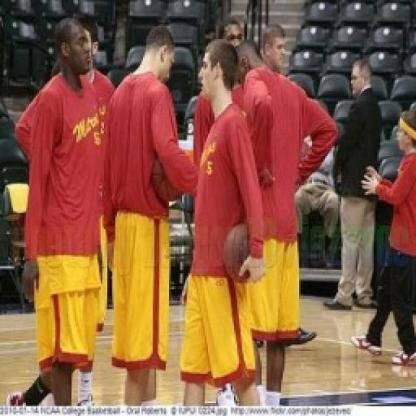basketball: (219, 219, 264, 283)
